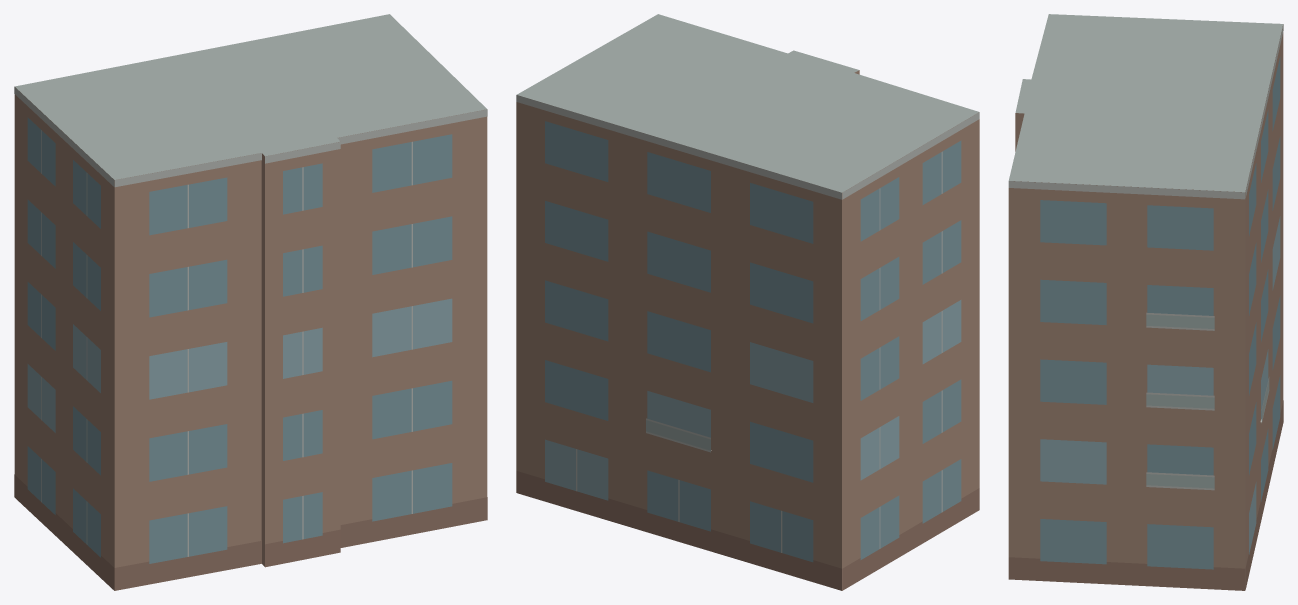
The model's file is survey-upis-32753338.glb.
3 renders of one model, left to right at view 1: azimuth 30°, elevation 25°; view 2: azimuth 150°, elevation 25°; view 3: azimuth 270°, elevation 25°, orthographic. The views are drawn at different scales.
Visible parts, largest first — view 1: survey-upis-32753338.tmp; view 2: survey-upis-32753338.tmp; view 3: survey-upis-32753338.tmp.
Boxes of the visible parts, left/top/right/bottom form: survey-upis-32753338.tmp: left=14, top=14, right=487, bottom=590; survey-upis-32753338.tmp: left=516, top=14, right=979, bottom=590; survey-upis-32753338.tmp: left=1008, top=14, right=1283, bottom=590.
Bounding box in the file's own units: 13.15 × 13.7 × 8.57.
